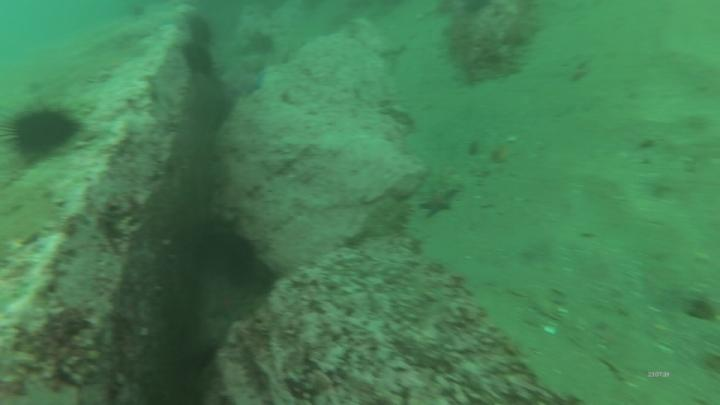echinus: (3, 102, 86, 163), (185, 40, 214, 79), (187, 14, 215, 47)
starfish: (416, 182, 461, 224), (231, 71, 271, 102)
